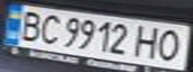1: (93, 19, 112, 54)
2: (109, 20, 133, 56)
9: (57, 15, 84, 49), (75, 17, 96, 52)
B: (15, 8, 45, 43)
C: (33, 11, 63, 45)
H: (133, 24, 166, 60)
O: (154, 27, 187, 62)
